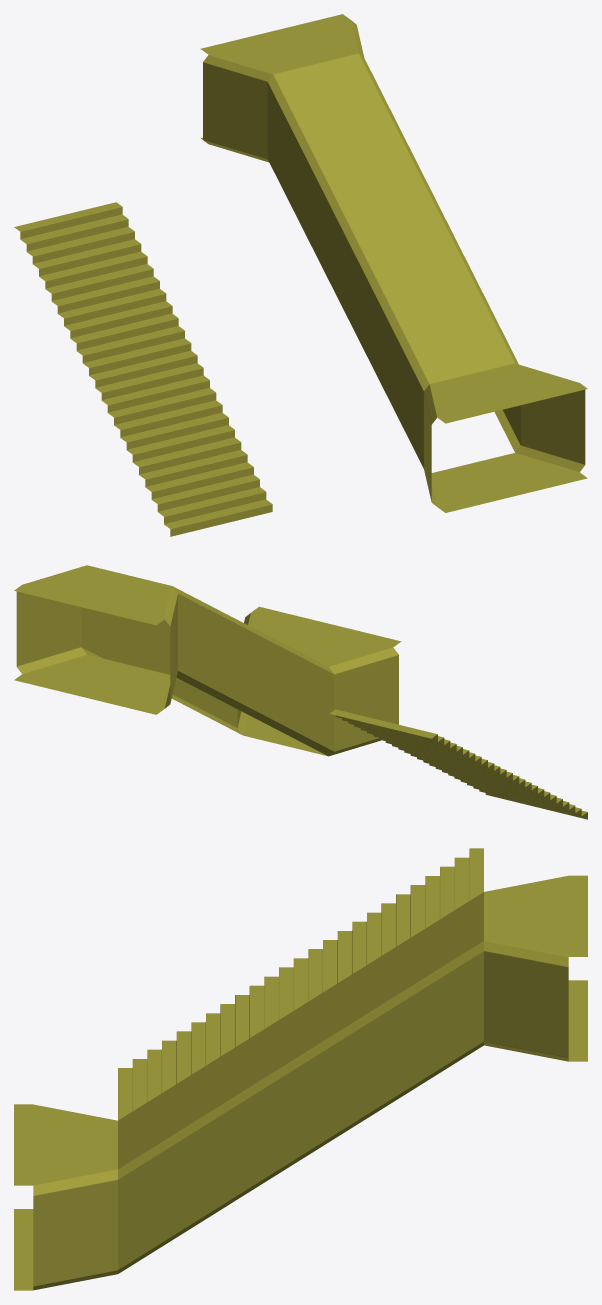
Rendered from Stairway_High.FBX.
The picture shows the model from 3 angles, top to bottom: view 1: azimuth 30°, elevation 25°; view 2: azimuth 150°, elevation 25°; view 3: azimuth 270°, elevation 25°; orthographic projection. The views are drawn at different scales.
Visible parts, largest first — view 1: SM_Stairway-High_E; view 2: SM_Stairway-High_E; view 3: SM_Stairway-High_E.
Part boxes in pixels (x1,y1,x2,y2): SM_Stairway-High_E: (14, 14, 587, 536); SM_Stairway-High_E: (14, 565, 587, 819); SM_Stairway-High_E: (14, 848, 587, 1290).
Size of the model in its own units: 524 by 587 by 376.
